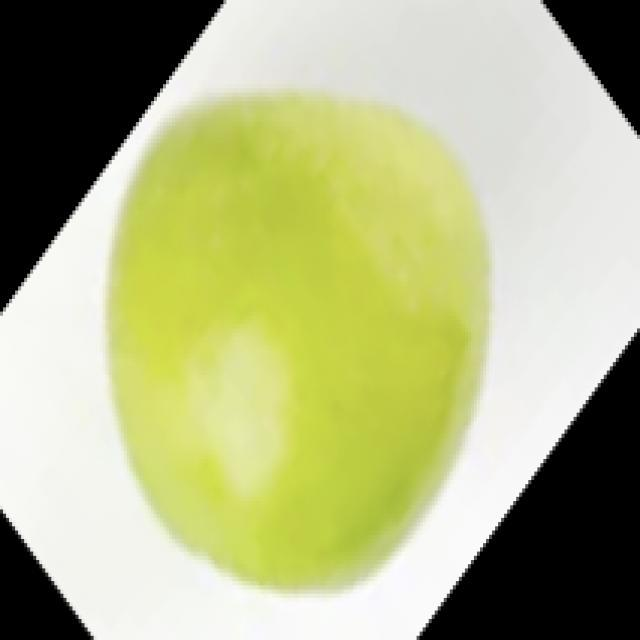Fresh Apple: (120, 104, 480, 568)
